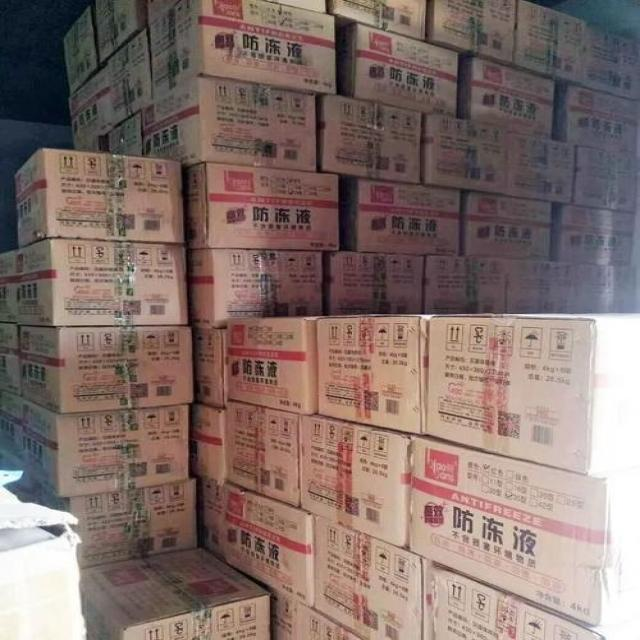box: (410, 435, 640, 626), (428, 313, 640, 474), (147, 0, 338, 106), (81, 549, 271, 640), (13, 147, 184, 248), (138, 77, 317, 172), (315, 515, 449, 640), (23, 399, 191, 498), (301, 414, 417, 550), (19, 326, 196, 413), (19, 238, 188, 326), (316, 314, 439, 434), (433, 569, 640, 640), (420, 114, 577, 205), (180, 163, 340, 251), (42, 479, 198, 569), (335, 24, 460, 115), (227, 482, 315, 607), (184, 249, 323, 328), (340, 178, 463, 255), (317, 95, 422, 184), (229, 315, 323, 414), (229, 400, 302, 508), (458, 59, 556, 139), (511, 0, 588, 86), (324, 252, 425, 316), (461, 193, 553, 260), (556, 85, 640, 155), (428, 0, 517, 65), (552, 205, 635, 267), (422, 255, 507, 314), (571, 144, 640, 213), (105, 30, 152, 126), (582, 28, 640, 102), (328, 0, 429, 42), (92, 0, 148, 70), (507, 259, 577, 314), (68, 67, 114, 145), (61, 6, 101, 93), (191, 403, 229, 485), (576, 263, 635, 314), (192, 328, 229, 408), (198, 479, 227, 563), (0, 389, 26, 462), (271, 590, 308, 640), (0, 324, 23, 397), (308, 611, 365, 640), (106, 113, 143, 155), (0, 249, 20, 324), (145, 0, 182, 26), (260, 0, 328, 12), (72, 134, 109, 152)
